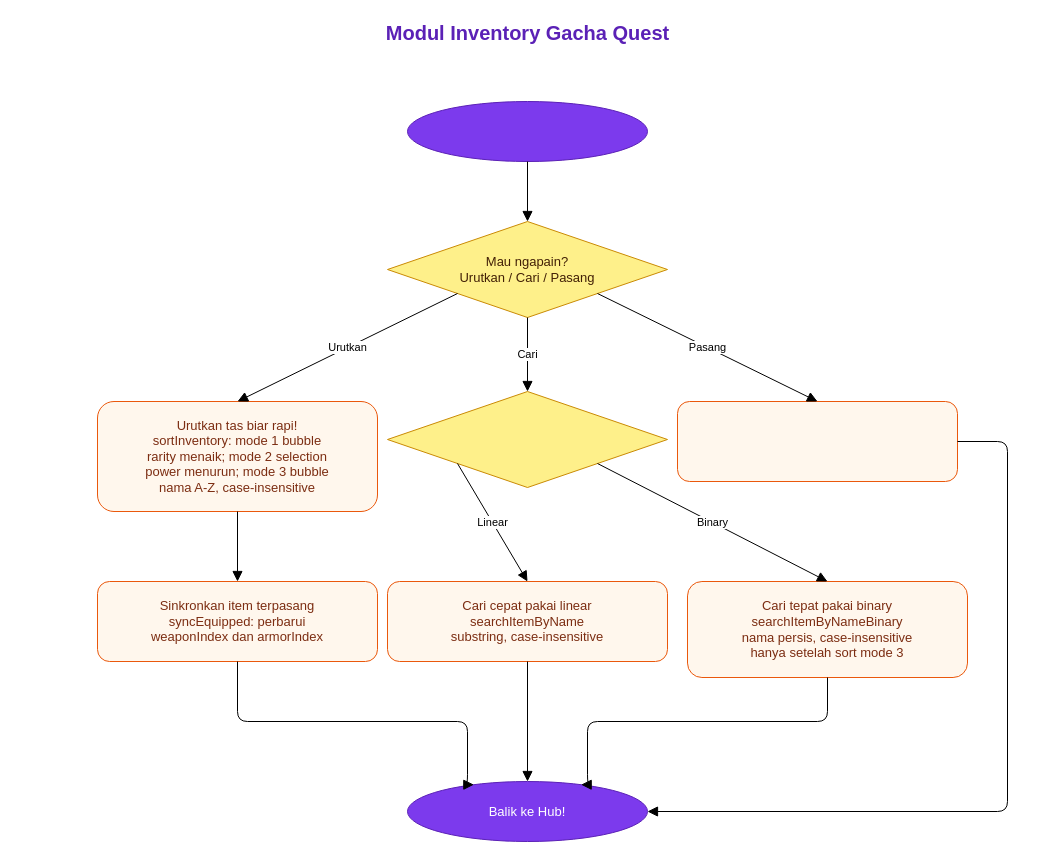
Some shapes in this 1054 by 859 pixel diagram are drawn without their labels. The centre of each missing label's shape, as x and y in pixels:
"Buka tas! inventoryMenu, maks 36 item" goes at point 527,131.
"Cari yang mana? Linear / Binary" goes at point 527,439.
"Pasang senjata atau armor! equipItem: senjata ke weaponIndex armor ke armorIndex" goes at point 817,441.
